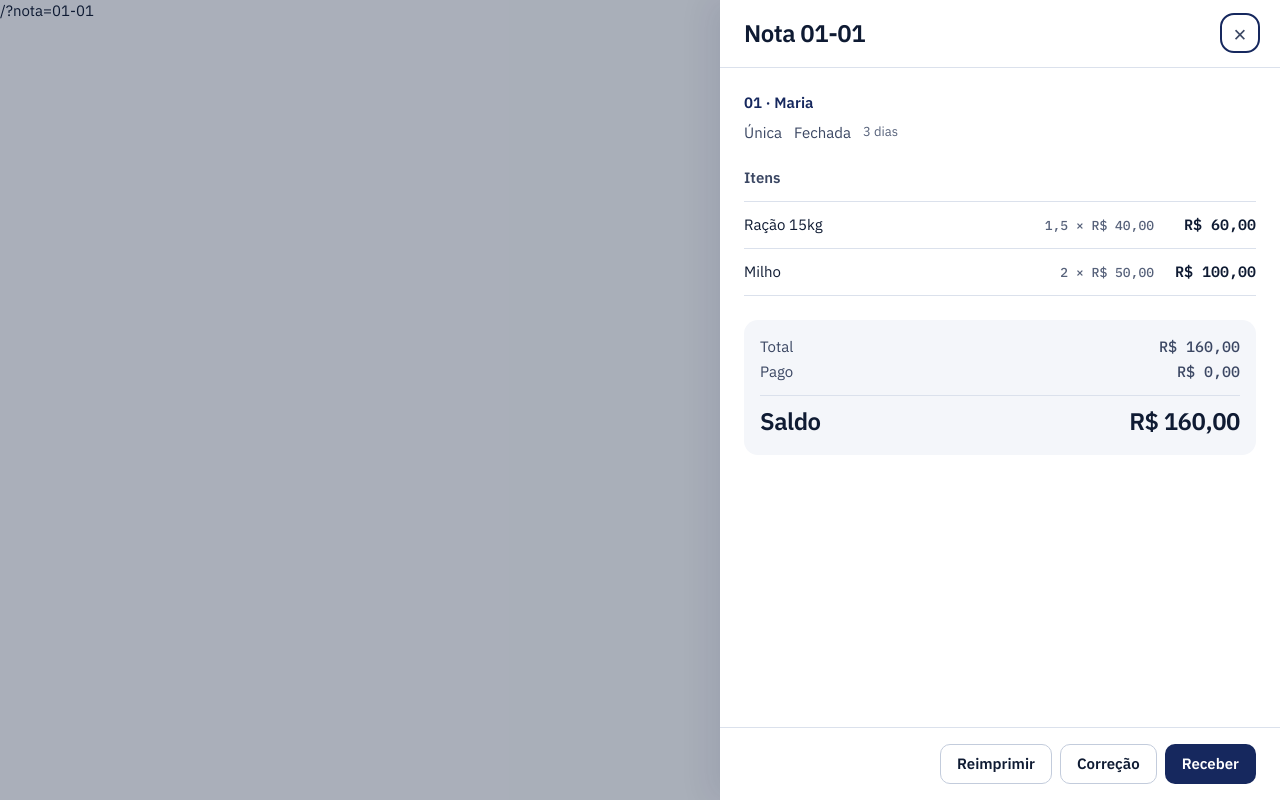
Test case: Correcao › Cancelar volta à leitura sem enviar
Click the button "Correção". click: {"x": 1108, "y": 764}
box: [1060, 744, 1157, 784]
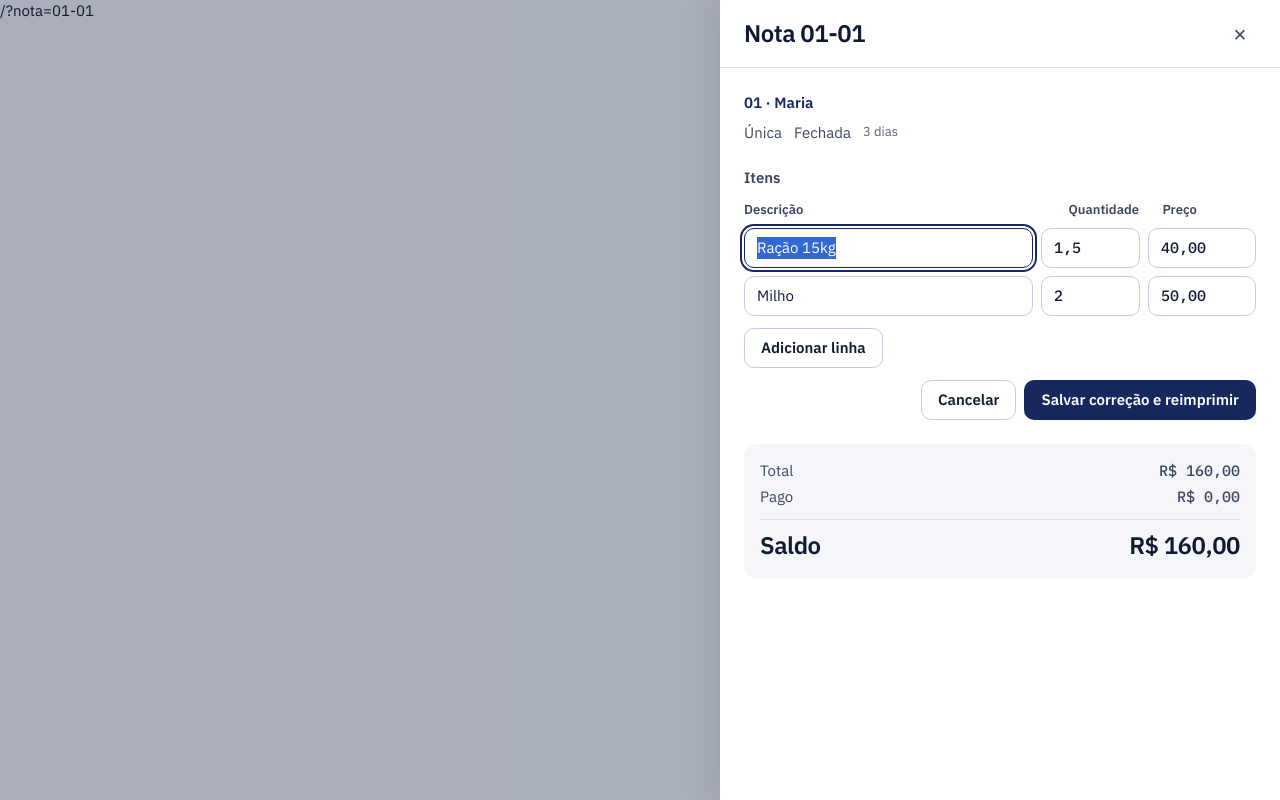
Replace the text in the field named "Descrição do item 1" with "Outra coisa". click: {"x": 888, "y": 248}
box: [744, 228, 1033, 268]
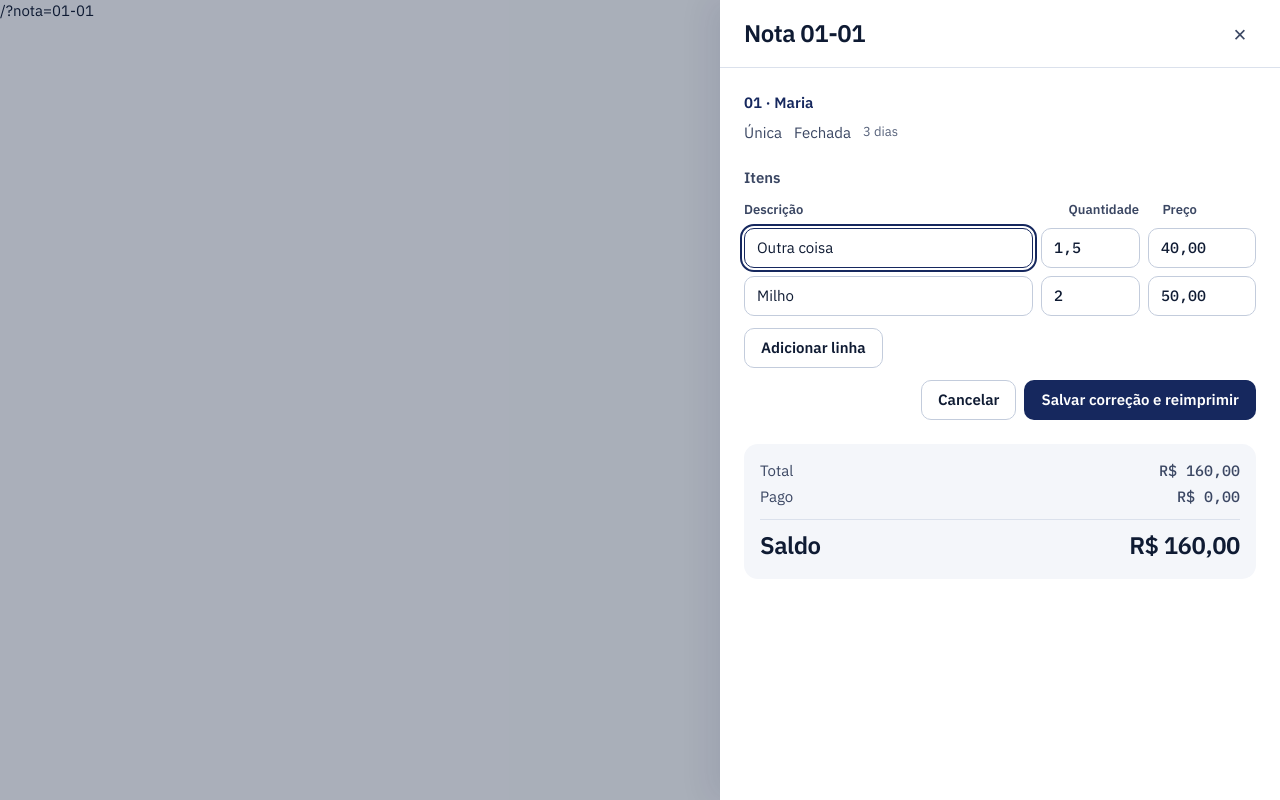
Click the button "Cancelar". click: {"x": 969, "y": 400}
box: [921, 380, 1016, 420]
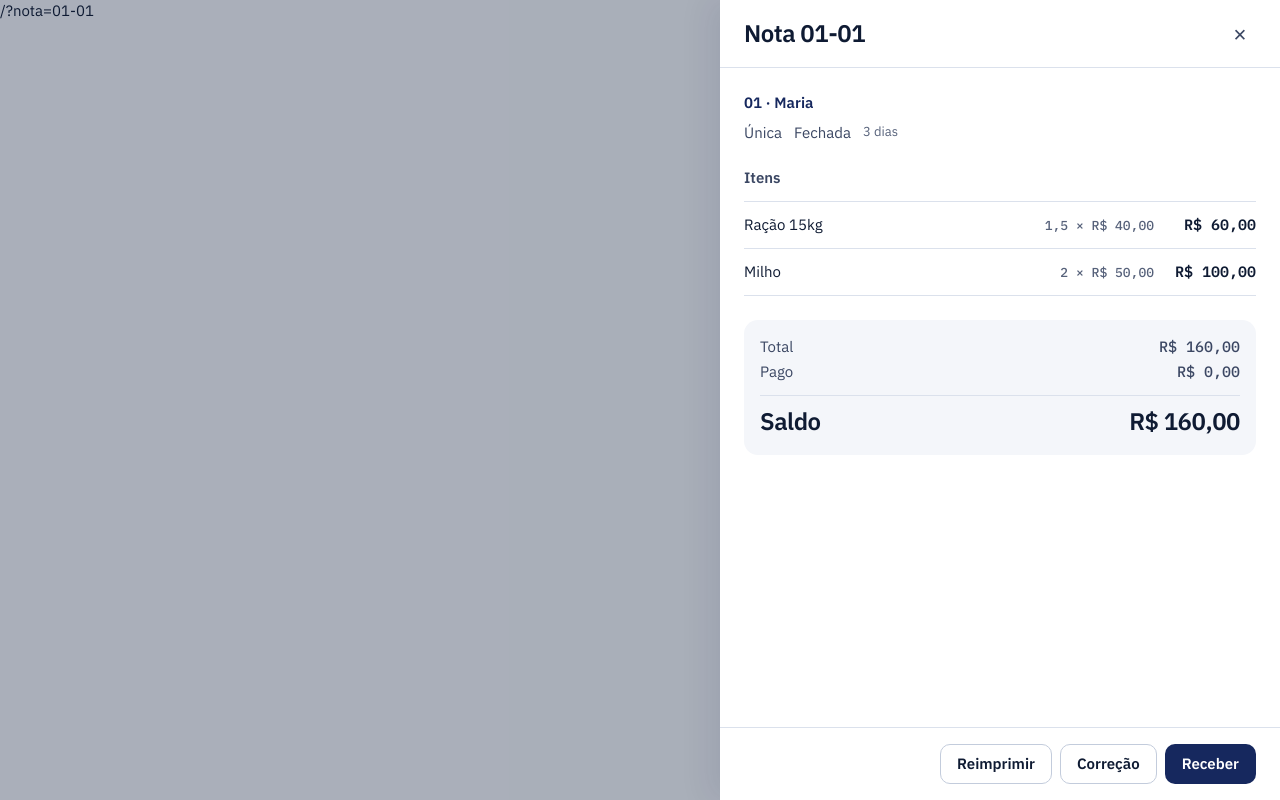
expect the text "Outra coisa" is not shown: met
expect the text "Ração 15kg" is shown: met, box [744, 215, 823, 234]
